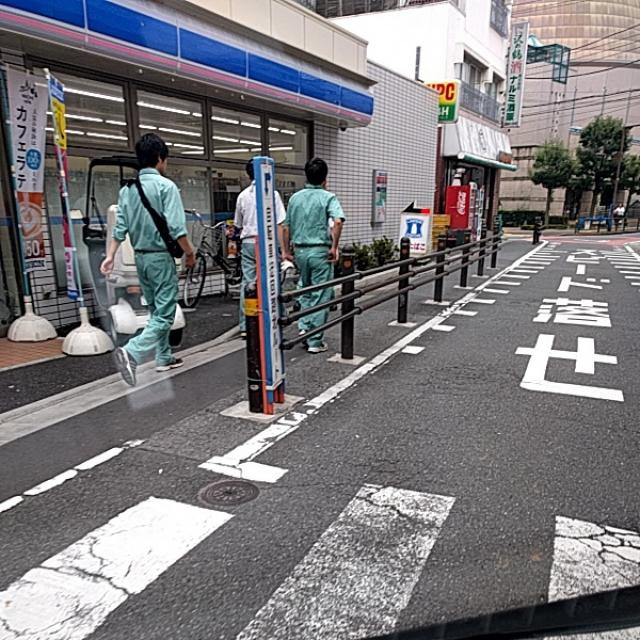pothole: (39, 518, 142, 596)
